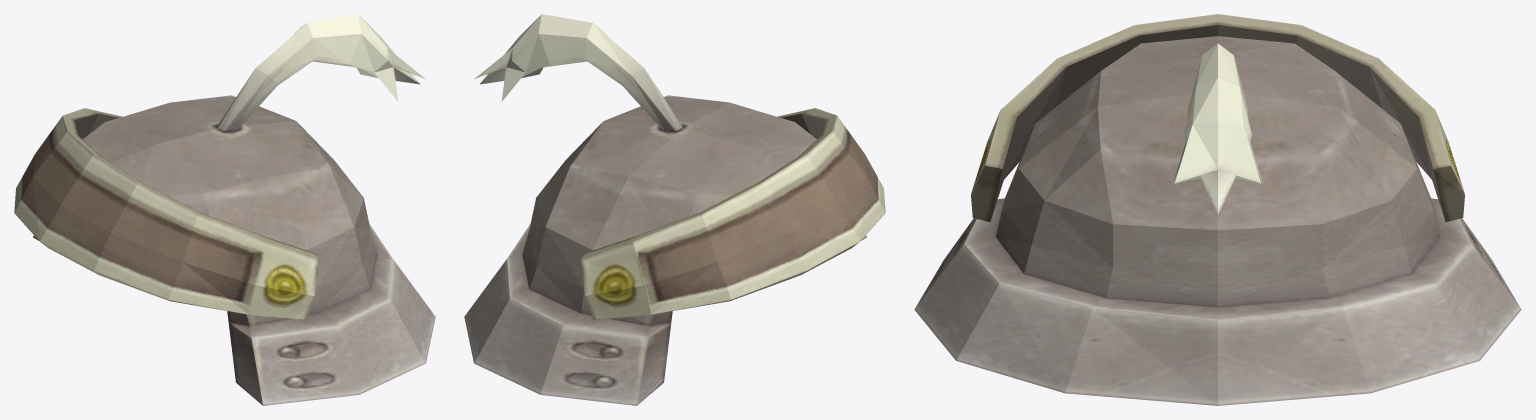
File: Whale_lancerHelmet.obj
The picture shows the model from 3 angles, left to right: view 1: azimuth 30°, elevation 25°; view 2: azimuth 150°, elevation 25°; view 3: azimuth 270°, elevation 25°; orthographic projection. The views are drawn at different scales.
Visible parts, largest first — view 1: Whale_lancerHelmet_tri; view 2: Whale_lancerHelmet_tri; view 3: Whale_lancerHelmet_tri.
Part boxes in pixels (bbox=[...]): Whale_lancerHelmet_tri: bbox=[14, 14, 435, 405]; Whale_lancerHelmet_tri: bbox=[464, 14, 885, 405]; Whale_lancerHelmet_tri: bbox=[914, 14, 1521, 405].
Bounding box in the file's own units: 1.8 × 1.19 × 2.09.
Materials: 1 (1 with a texture image).
